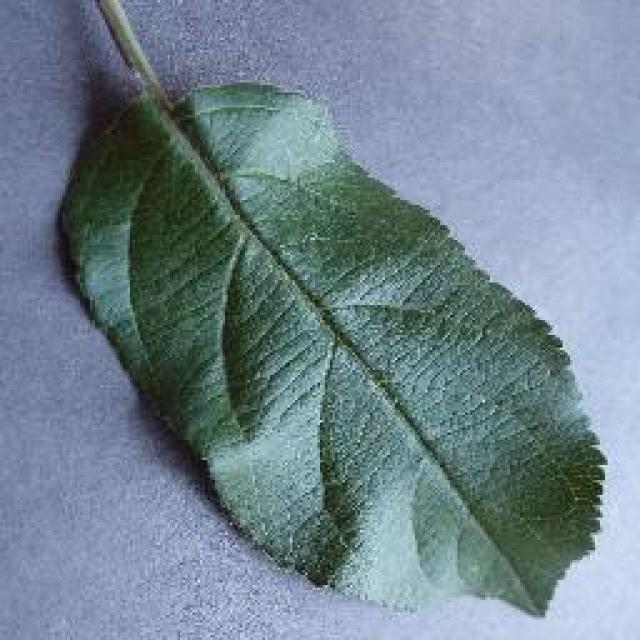apple scab disease: (45, 0, 610, 618)
